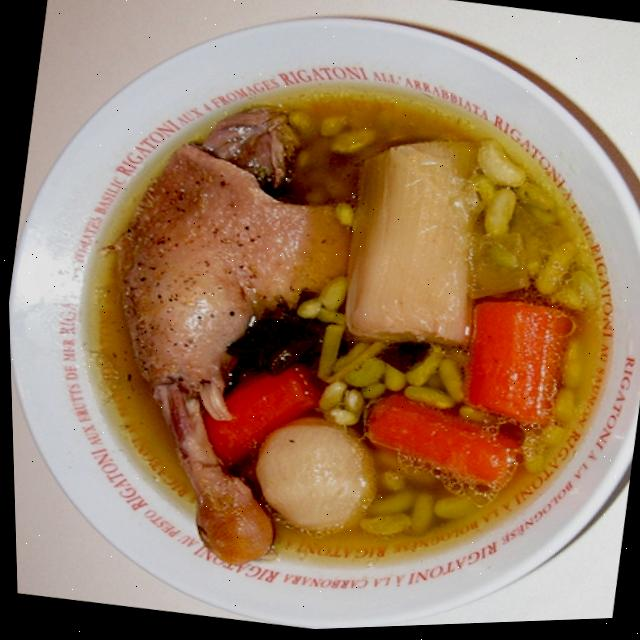汤锅炖物: (0, 1, 640, 640)
